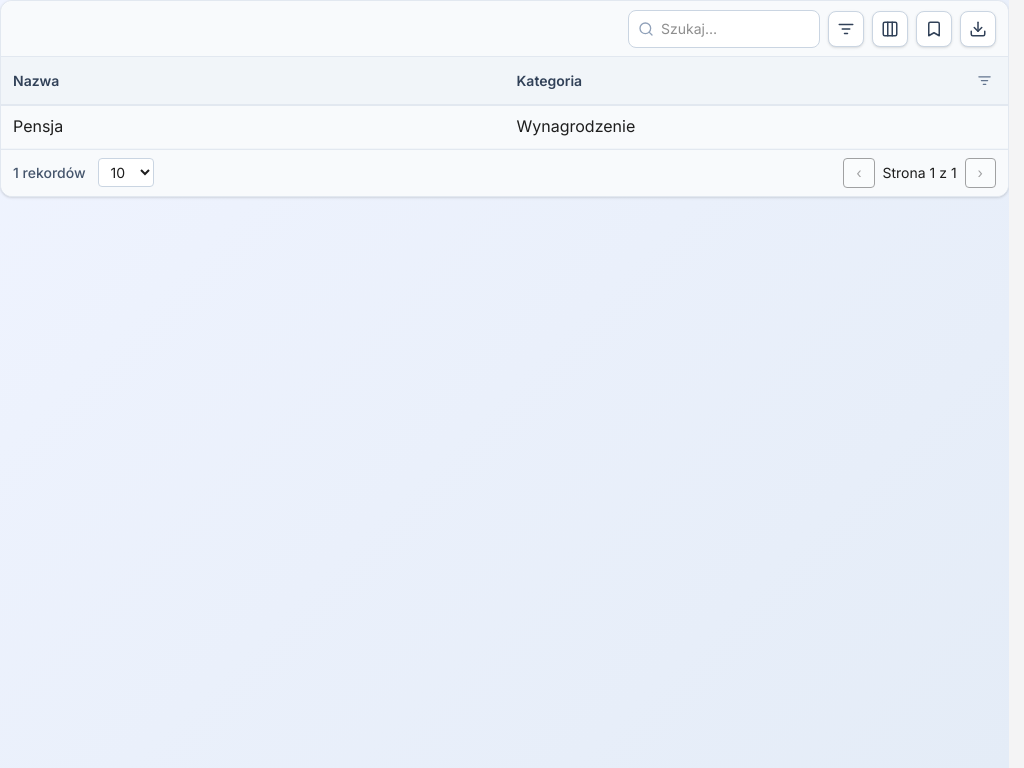
Scenario: DataGrid inline editing › shows only one grid configuration panel at a time
Click the button named "Kolumny" at (890, 28), box left=872, top=10, right=908, bottom=46
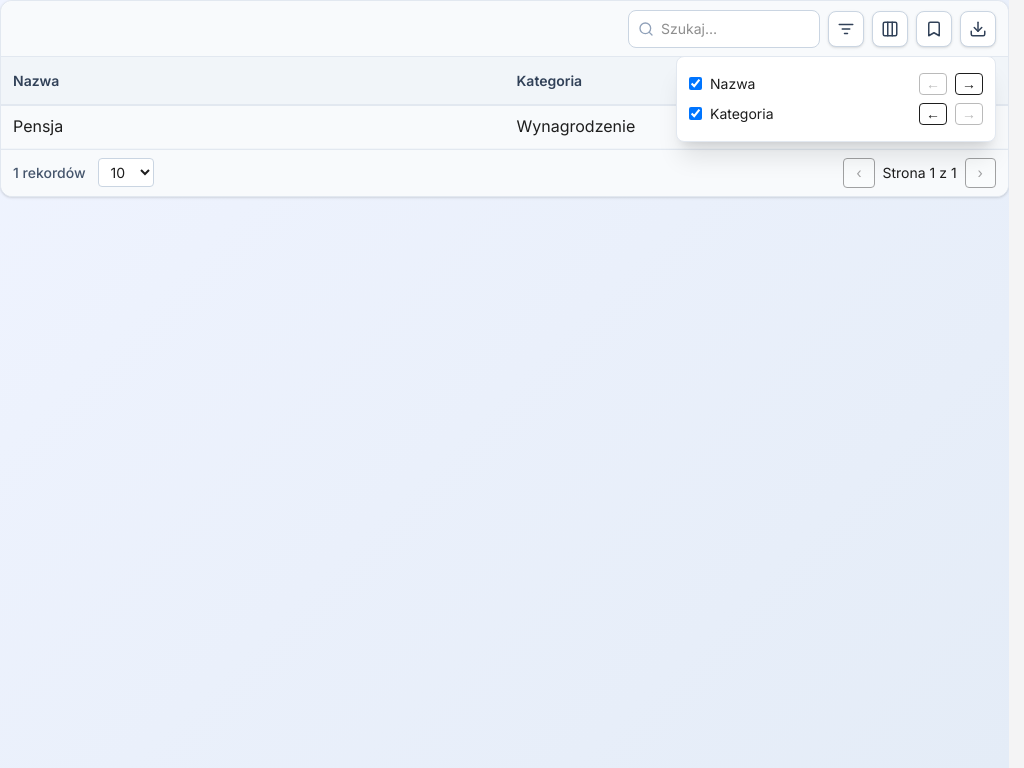
Result: the checkbox named "Pokaż Nazwa" is shown at left=689, top=77, right=702, bottom=90
Click the button named "Profile widoku" at (934, 28), box left=916, top=10, right=952, bottom=46
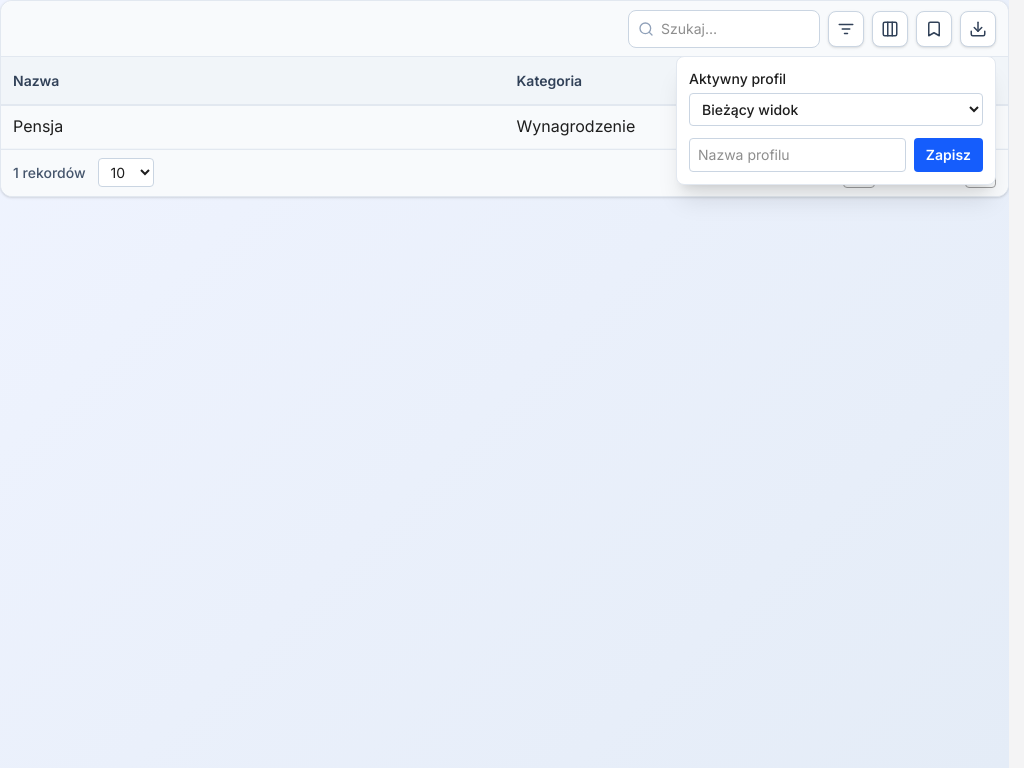
Result: the text "Aktywny profil" is shown at left=689, top=68, right=983, bottom=126
